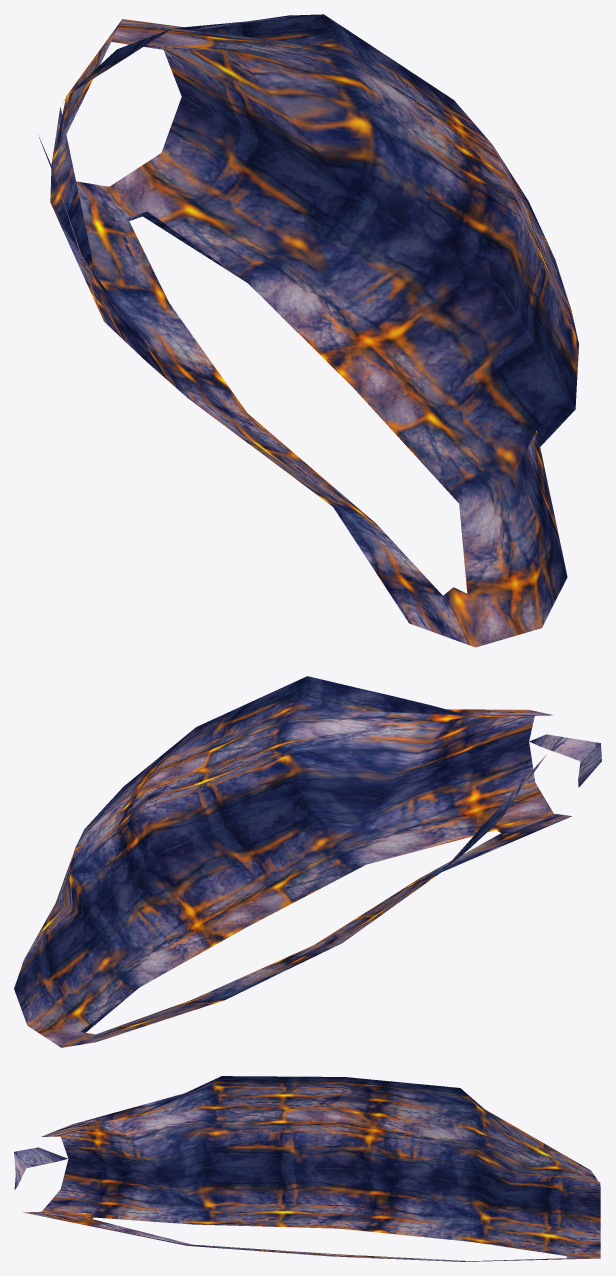
Rendered from BIGCAVE01.glb.
3 renders of one model, top to bottom at view 1: azimuth 30°, elevation 25°; view 2: azimuth 150°, elevation 25°; view 3: azimuth 270°, elevation 25°, orthographic. The views are drawn at different scales.
Visible parts, largest first — view 1: BIGCAVE01; view 2: BIGCAVE01; view 3: BIGCAVE01.
Part boxes in pixels (x1=…): BIGCAVE01: x1=39, y1=14, x2=578, y2=647; BIGCAVE01: x1=14, y1=676, x2=601, y2=1047; BIGCAVE01: x1=14, y1=1076, x2=600, y2=1261.
Bounding box in the file's own units: 11148 × 7436 × 26892.
Materials: 2 (2 with a texture image).
